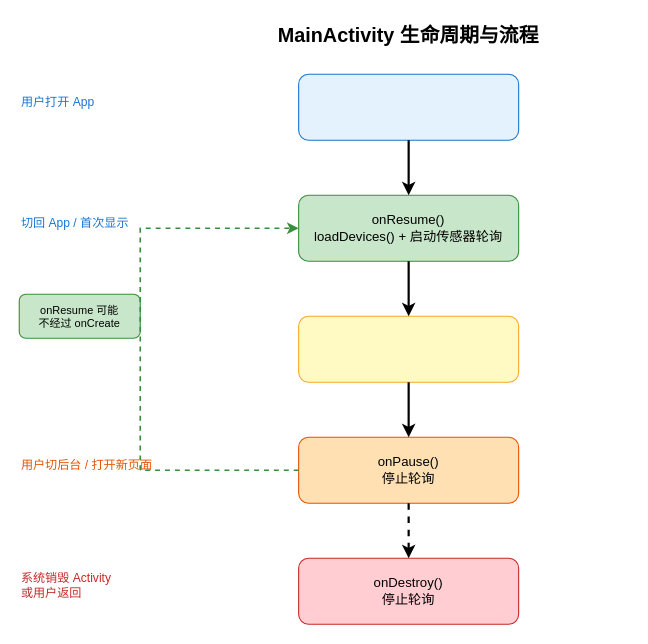
Some shapes in this 648 by 644 pixel diagram are drawn without their labels. Here are the shapes that lost their labels. From the top down, the centre of each, then its label:
point (408, 106): onCreate() setContentView + setupViews + loadDevices
point (408, 348): Activity 运行中 LiveData 监听变化 | Handler 定时轮询
